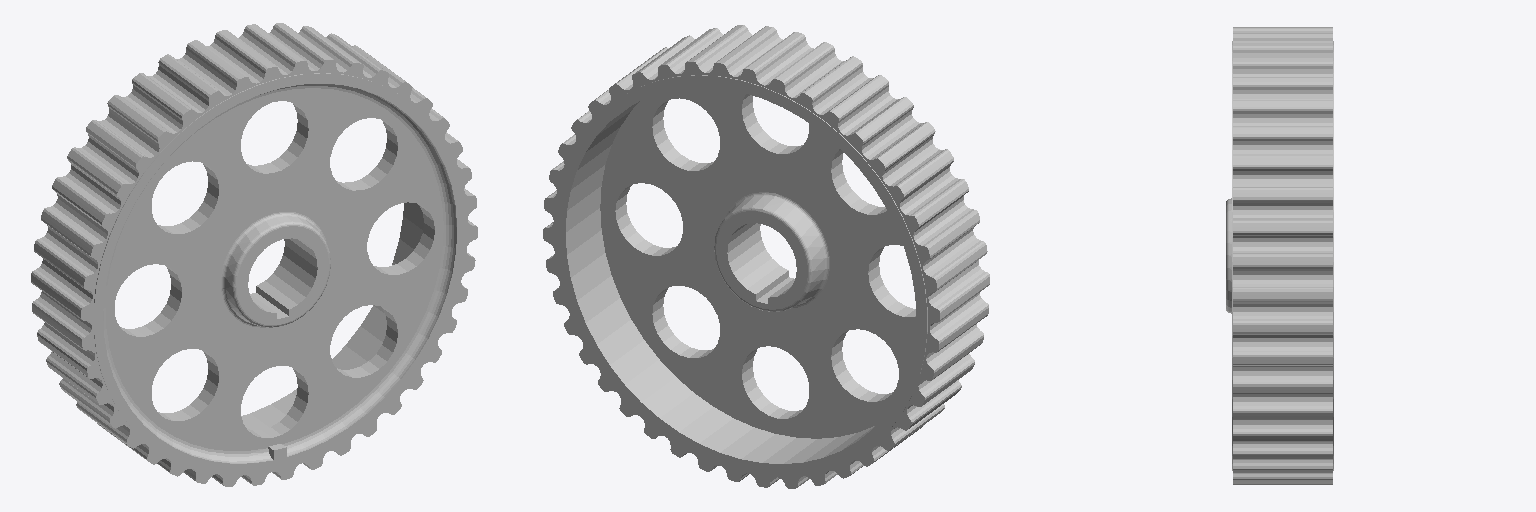
The model's file is Шкив выпускного распределительного вала.obj.
3 renders of one model, left to right at view 1: azimuth 30°, elevation 25°; view 2: azimuth 150°, elevation 25°; view 3: azimuth 270°, elevation 25°, orthographic.
Visible parts, largest first — view 1: Шкив_выпускного_распредвала; view 2: Шкив_выпускного_распредвала; view 3: Шкив_выпускного_распредвала.
Part boxes in pixels (x1,y1,x2,y2): Шкив_выпускного_распредвала: (31,23,477,486); Шкив_выпускного_распредвала: (543,25,989,488); Шкив_выпускного_распредвала: (1226,27,1333,484).
Size of the model in its own units: 126 by 126 by 29.5.